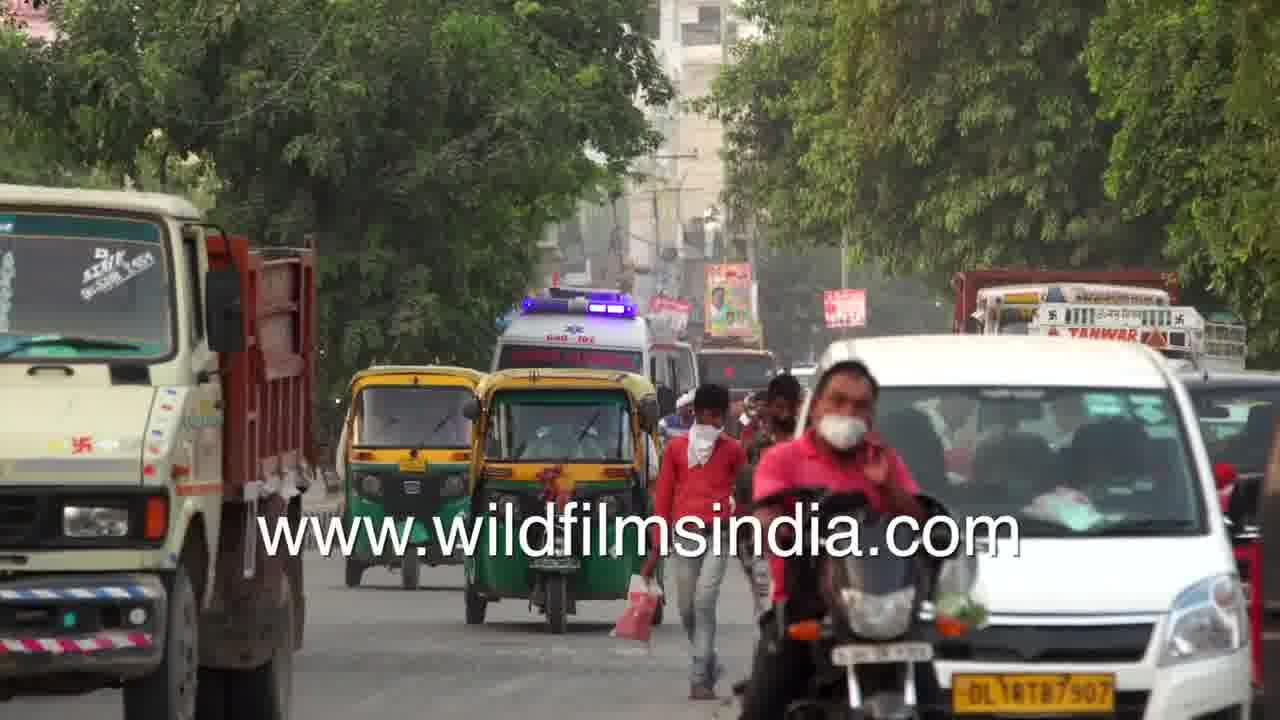AMBULANCE: (495, 287, 658, 370)
